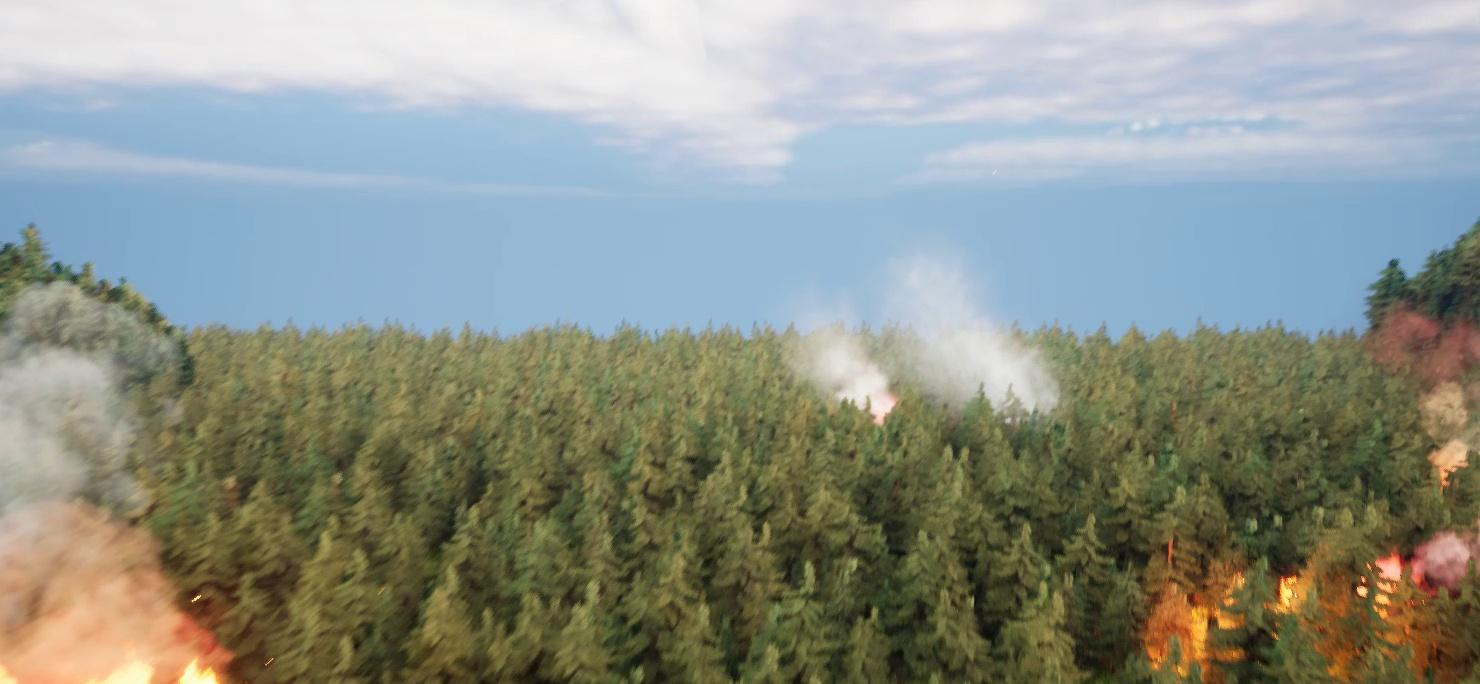fire: (1154, 547, 1406, 663), (98, 627, 239, 683)
smoke: (0, 301, 200, 683), (772, 242, 1067, 445), (1359, 299, 1479, 491)
